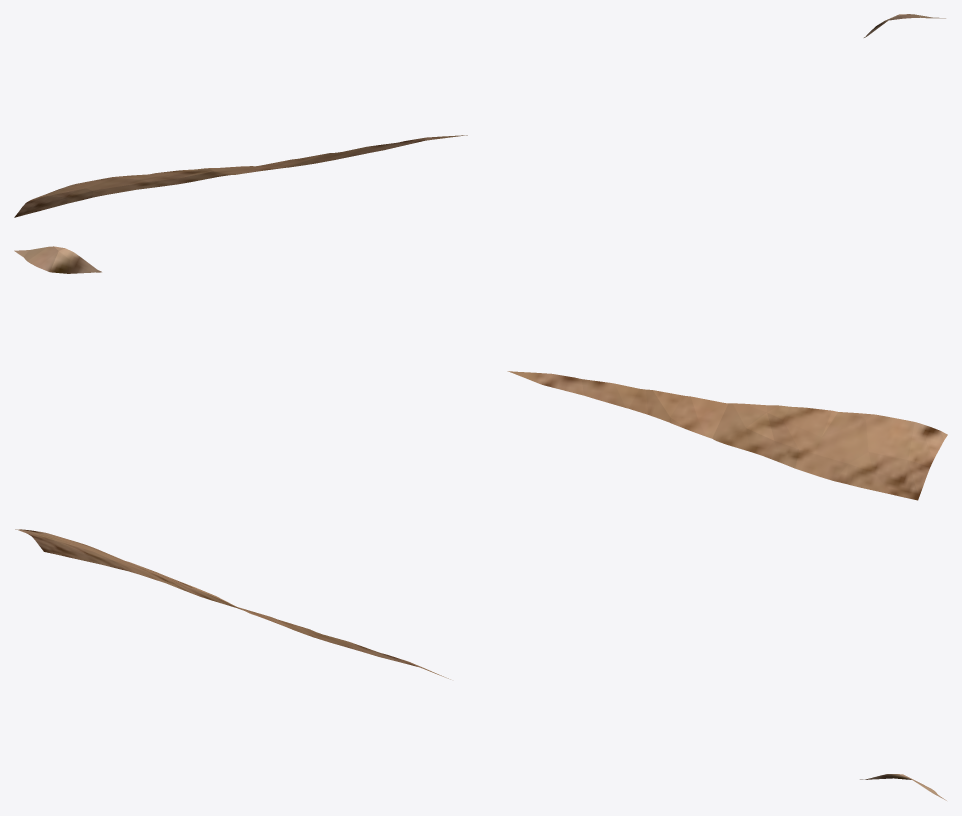
The picture shows the model from 3 angles, top to bottom: view 1: azimuth 30°, elevation 25°; view 2: azimuth 150°, elevation 25°; view 3: azimuth 330°, elevation 25°; orthographic projection. The views are drawn at different scales.
Bounding box in the file's own units: 0.9995 × 0.0498 × 0.0577.
1 material, 1 textured.
